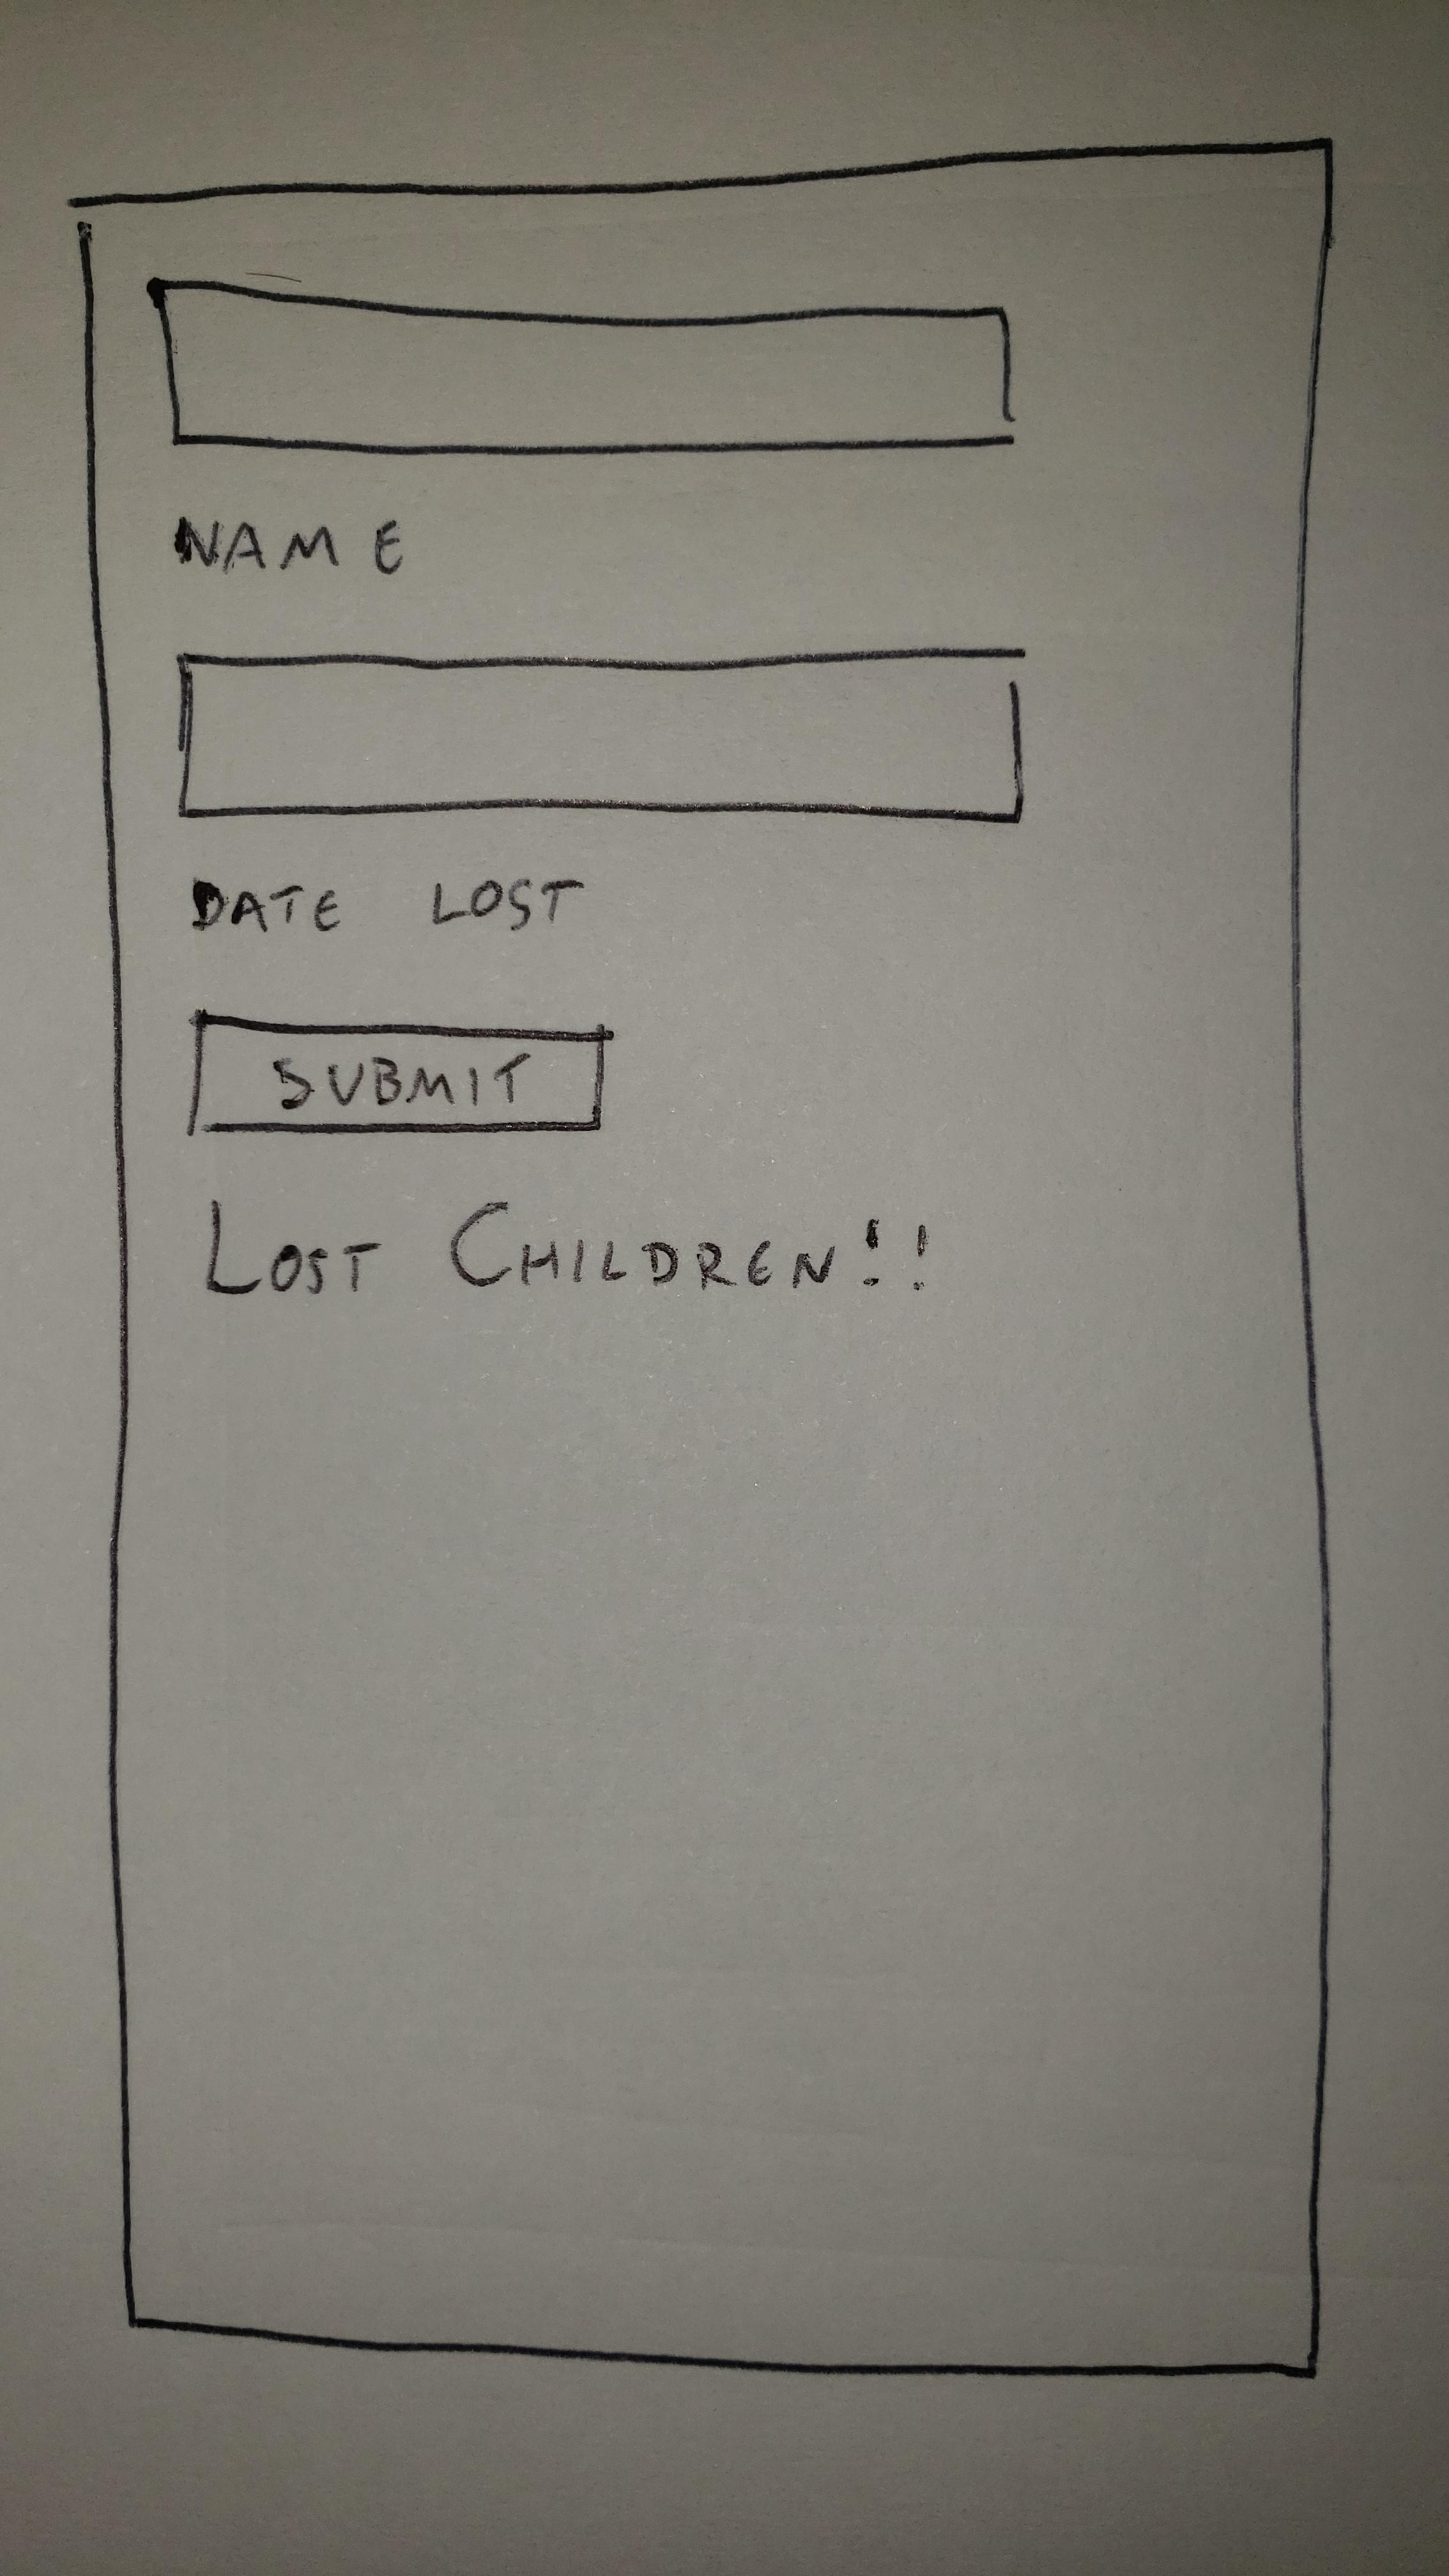Button: (184, 1012, 616, 1136)
Label: (203, 1196, 934, 1302), (188, 870, 584, 936), (168, 510, 407, 580)
Screen: (71, 136, 1336, 2383)
TextBox: (150, 278, 1017, 456), (175, 649, 1028, 821)
